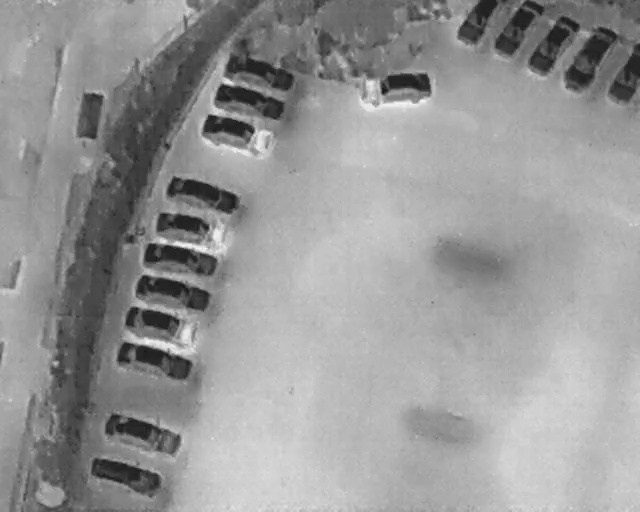Car: (556, 17, 626, 100), (195, 107, 281, 165), (119, 299, 208, 353), (128, 266, 217, 320), (100, 407, 188, 461), (521, 8, 584, 82), (84, 447, 167, 501), (112, 335, 198, 387), (161, 168, 247, 220), (209, 76, 289, 127), (220, 47, 300, 97), (138, 237, 223, 284), (151, 205, 227, 250), (358, 66, 434, 111), (491, 0, 544, 62), (454, 0, 500, 47), (605, 42, 639, 105)
